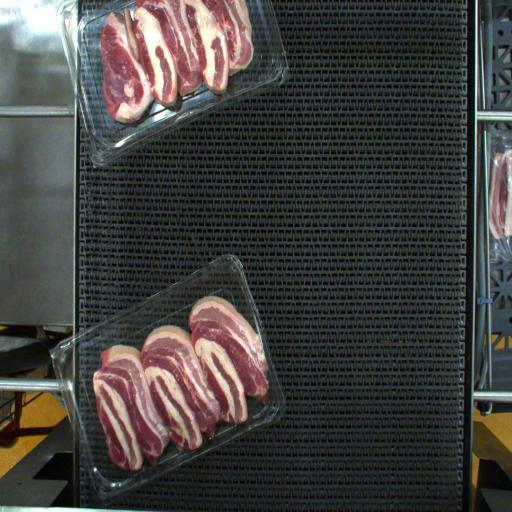packaging-error: (253, 317, 274, 400)
